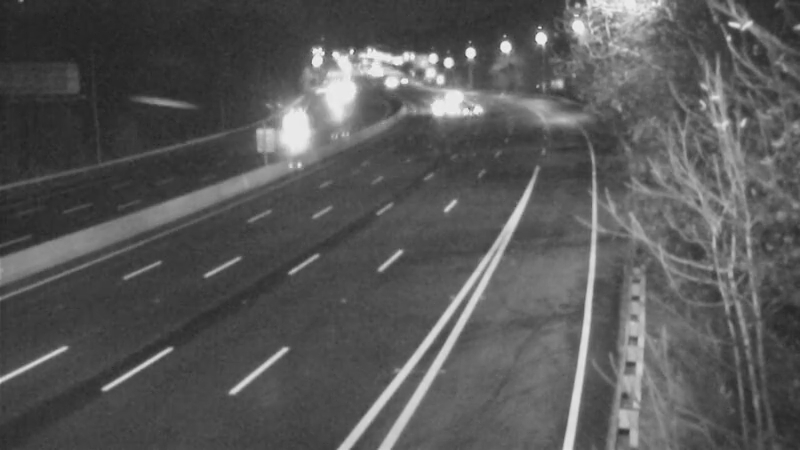vehicle: (426, 70, 476, 120), (413, 78, 463, 128), (447, 83, 497, 133), (273, 101, 323, 151)
